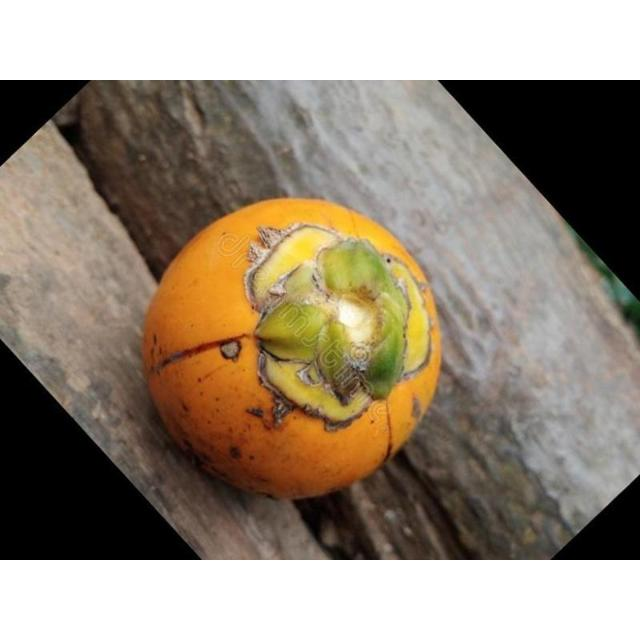good: (142, 200, 443, 502)
